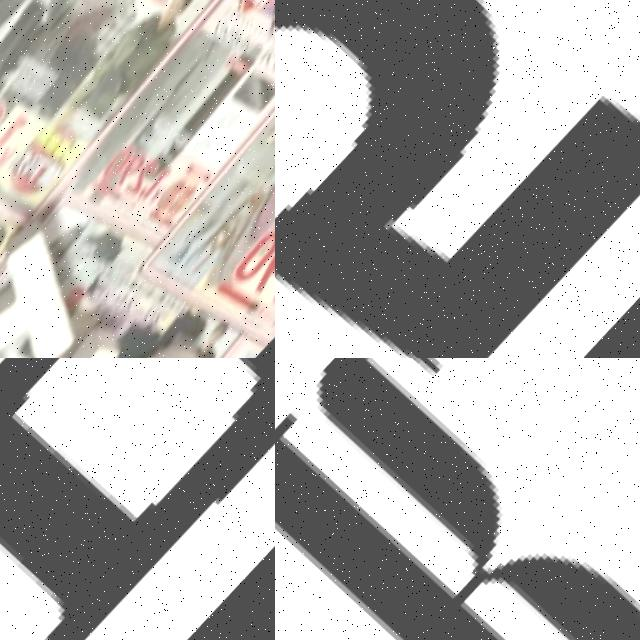5: (275, 0, 640, 358)
E: (0, 358, 275, 640)
H: (0, 194, 138, 358)
R: (275, 358, 640, 640)
Z: (1, 280, 240, 358)
